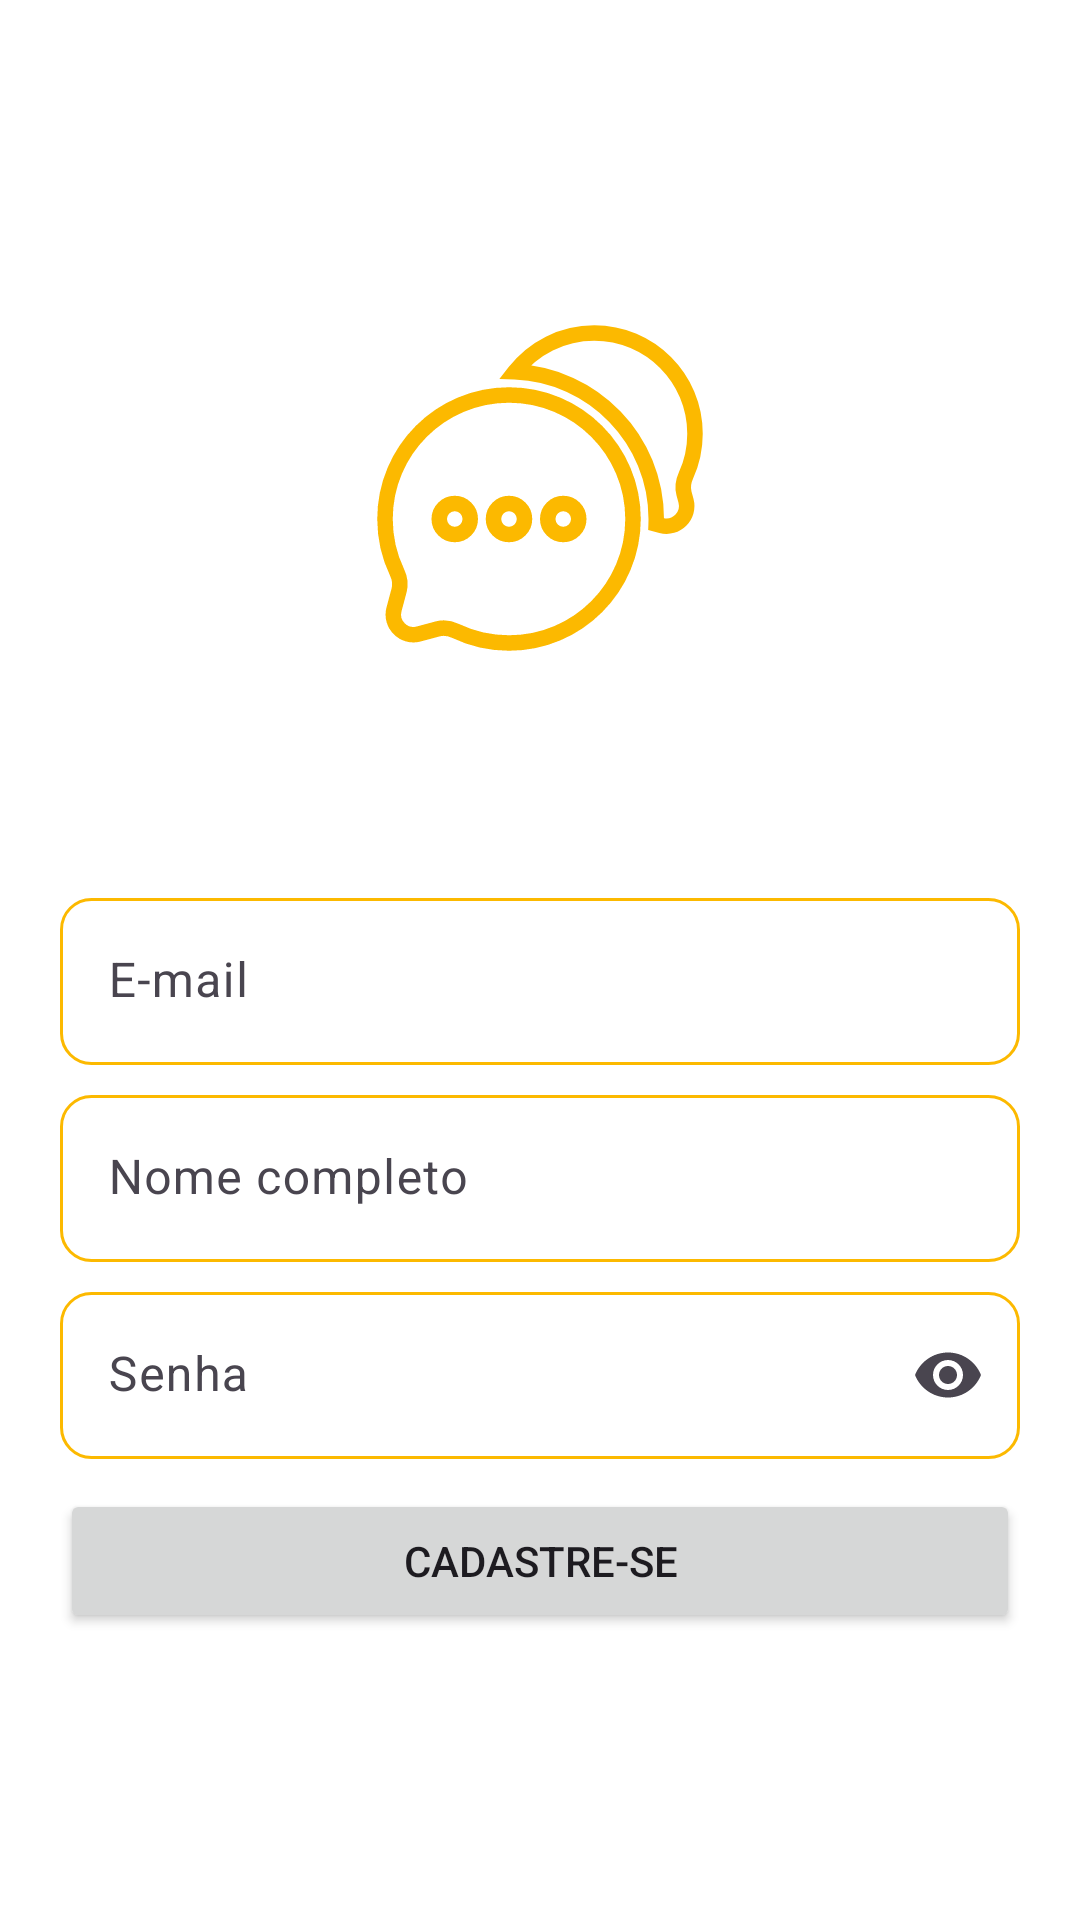

Named icons in this screenshot (1080 × 1920) and their bounding boxes, (x1, y1, x2, y2):
dialog: (377, 325, 703, 651)
